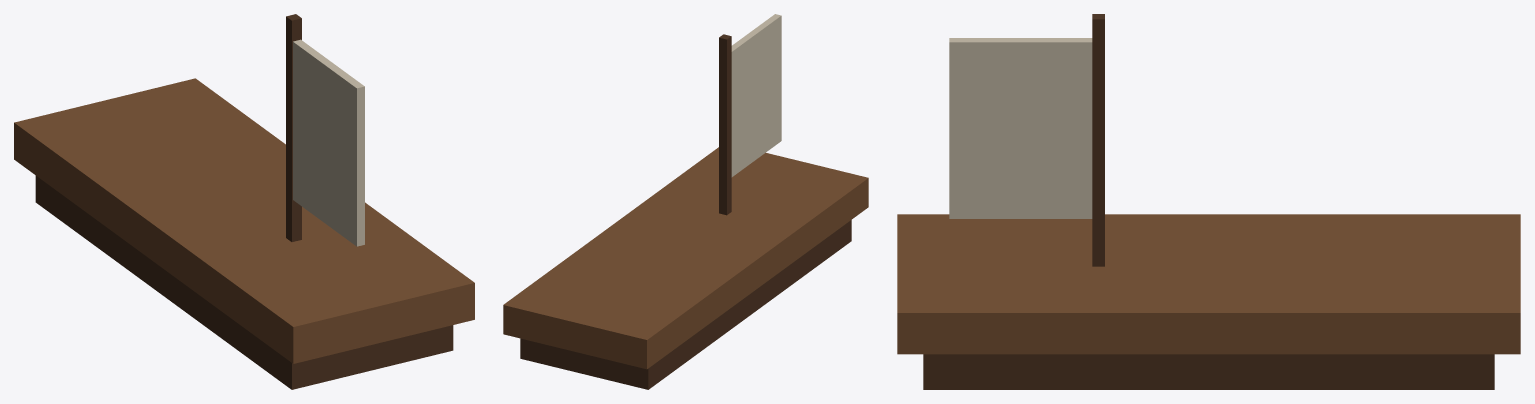
The model's file is boat.glb.
The picture shows the model from 3 angles, left to right: view 1: azimuth 30°, elevation 25°; view 2: azimuth 150°, elevation 25°; view 3: azimuth 270°, elevation 25°; orthographic projection. The views are drawn at different scales.
Parts seen in each view (by area): view 1: boat; view 2: boat; view 3: boat.
Part boxes in pixels (<box>): boat: <box>14,14,474,389</box>; boat: <box>503,14,868,389</box>; boat: <box>897,14,1520,389</box>.
Bounding box in the file's own units: 1.8 × 2.8 × 4.8.
Materials: 1 (1 with a texture image).
